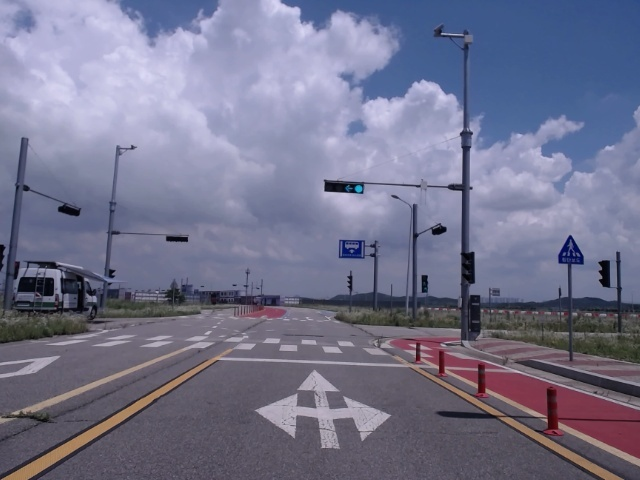all_green_4: (324, 181, 363, 193)
